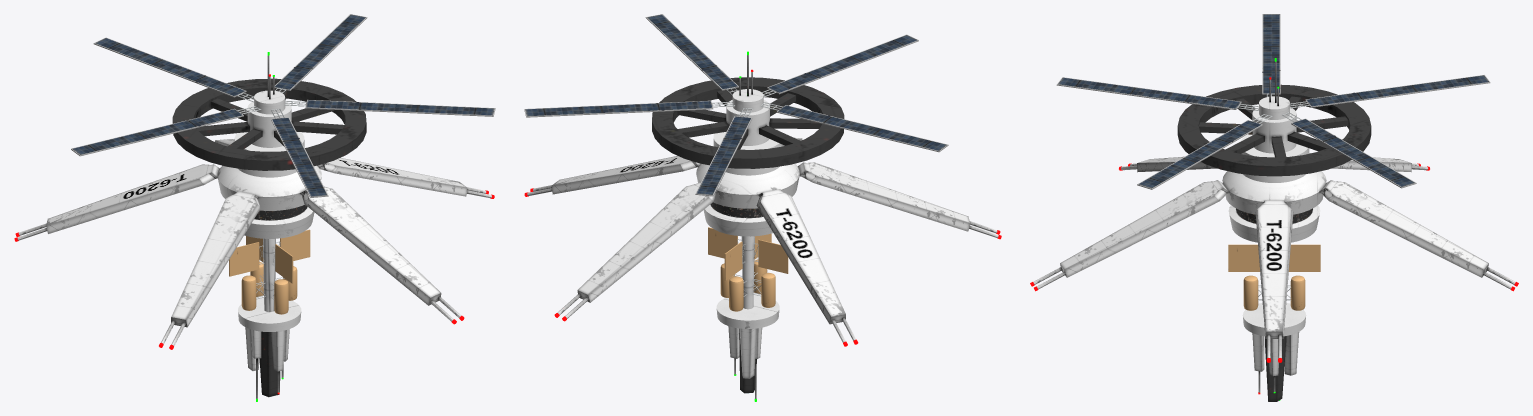
3 renders of one model, left to right at view 1: azimuth 30°, elevation 25°; view 2: azimuth 150°, elevation 25°; view 3: azimuth 270°, elevation 25°, orthographic.
Visible parts, largest first — view 1: Space_Station_0; view 2: Space_Station_0; view 3: Space_Station_0.
Part boxes in pixels (box(x1,y1,x2,y2)): Space_Station_0: box(14, 14, 495, 401); Space_Station_0: box(524, 14, 1001, 401); Space_Station_0: box(1030, 14, 1518, 401).
Bounding box in the file's own units: 9.21 × 7.34 × 9.38.
1 material, 1 textured.
